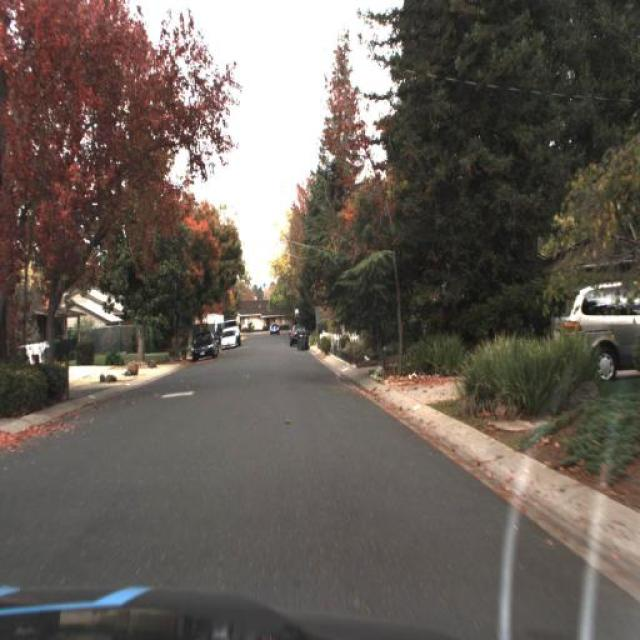car: (550, 276, 640, 386), (192, 332, 218, 363), (190, 330, 216, 360), (220, 317, 240, 349), (288, 320, 308, 348), (269, 322, 280, 336)
